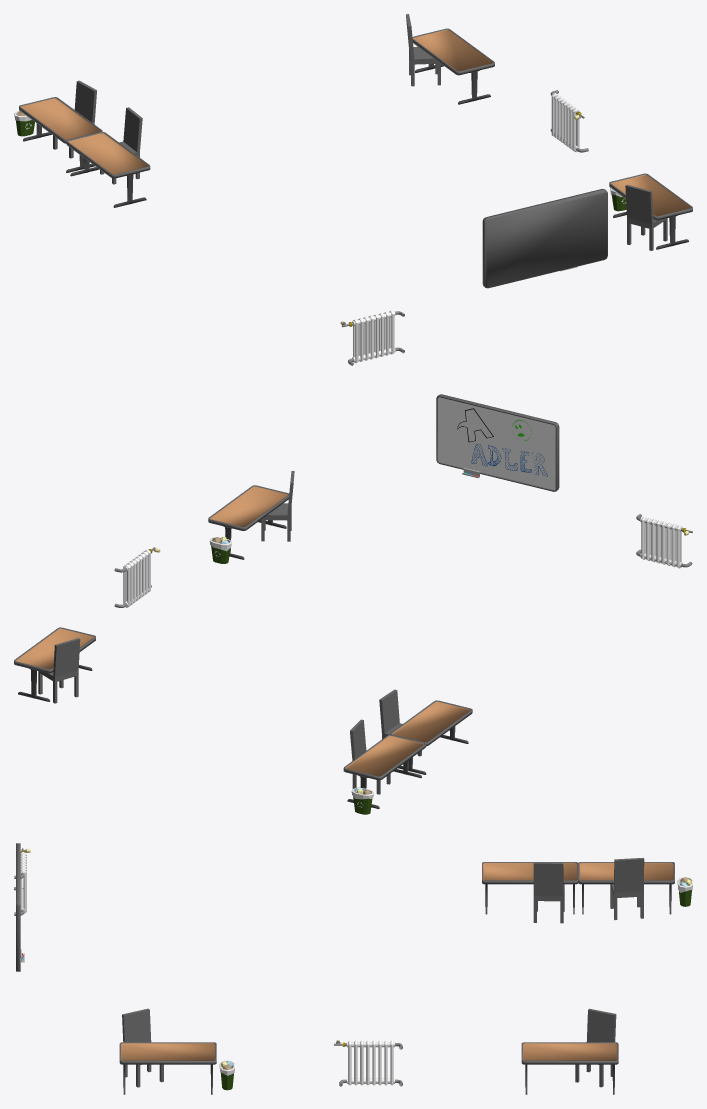
Rendered from d2x3Shape Sampleroom - Deko.glb.
3 views of the same model, one above another, from view 1: azimuth 30°, elevation 25°; view 2: azimuth 150°, elevation 25°; view 3: azimuth 270°, elevation 25° (orthographic). The views are drawn at different scales.
Parts seen in each view (by area): view 1: Deko_2x3 campus; view 2: Deko_2x3 campus; view 3: Deko_2x3 campus.
Boxes of the visible parts, bbox=[...] form: Deko_2x3 campus: bbox=[14, 14, 692, 365]; Deko_2x3 campus: bbox=[14, 394, 692, 814]; Deko_2x3 campus: bbox=[14, 843, 692, 1094].
Bounding box in the file's own units: 8.1 × 2.36 × 11.58.
Materials: 1 (1 with a texture image).
